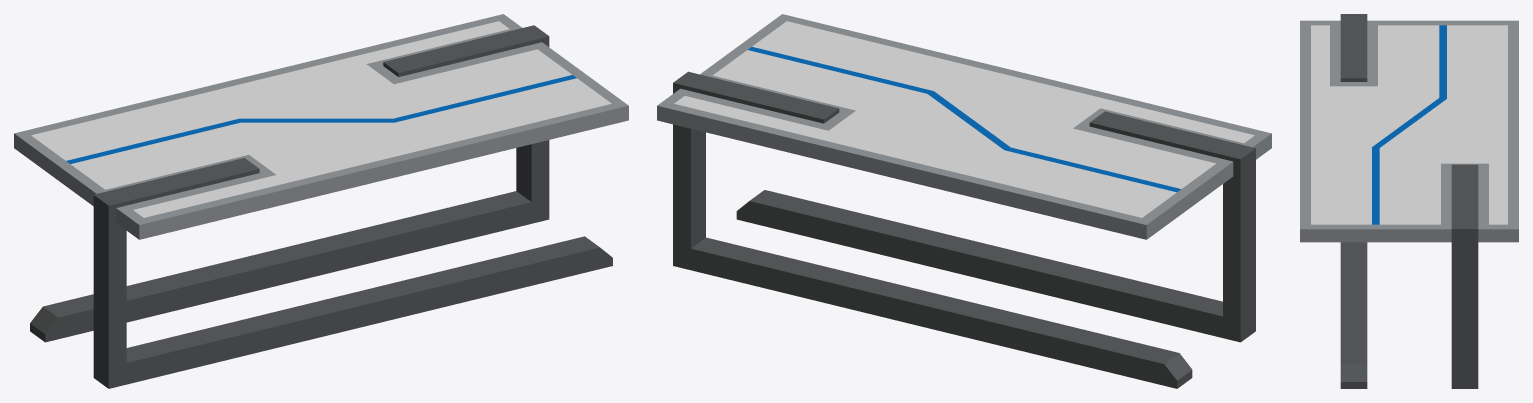
The model's file is Desk_023.fbx.
The picture shows the model from 3 angles, left to right: view 1: azimuth 30°, elevation 25°; view 2: azimuth 150°, elevation 25°; view 3: azimuth 270°, elevation 25°; orthographic projection. The views are drawn at different scales.
Visible parts, largest first — view 1: Desk_023; view 2: Desk_023; view 3: Desk_023.
Part boxes in pixels (x1,y1,x2,y2): Desk_023: (14, 14, 628, 388); Desk_023: (657, 14, 1271, 388); Desk_023: (1300, 14, 1518, 388).
Size of the model in its own units: 244 by 105 by 84.84.
